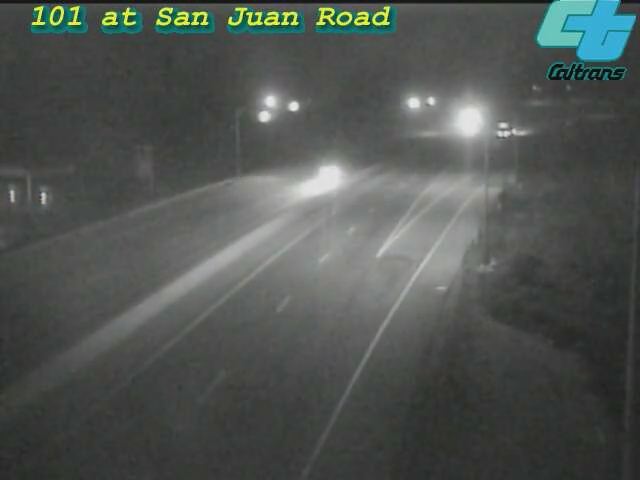vehicle: (288, 132, 368, 212), (443, 96, 493, 146), (480, 105, 530, 155)
